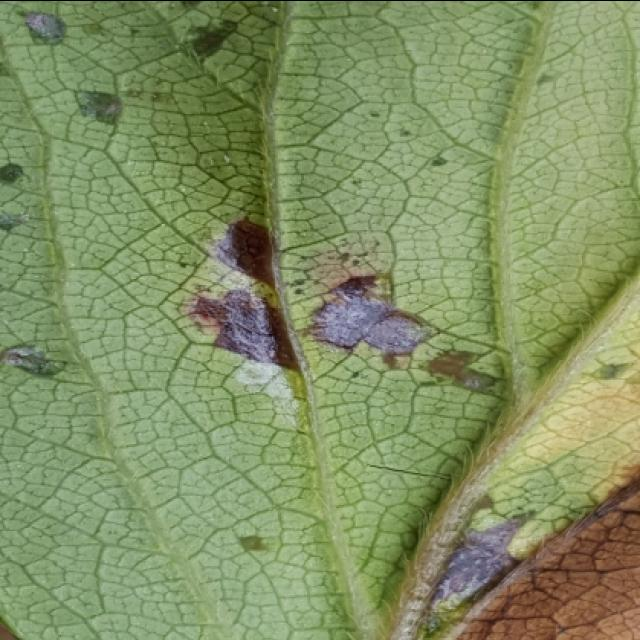Angular Leafspot: (0, 2, 638, 640)
